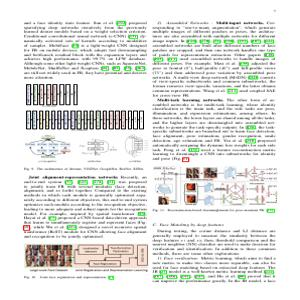diagram: (22, 82, 149, 164), (152, 164, 281, 207), (21, 243, 151, 269)
text: (151, 19, 277, 162), (151, 218, 278, 286), (22, 174, 150, 241), (21, 19, 149, 79)
